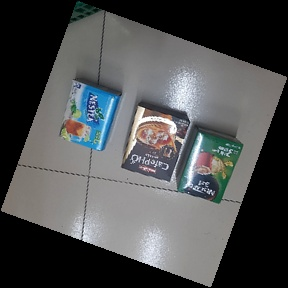CF pho: (121, 100, 190, 182)
Nes Rang: (176, 120, 244, 204)
Nestea: (57, 78, 123, 152)
